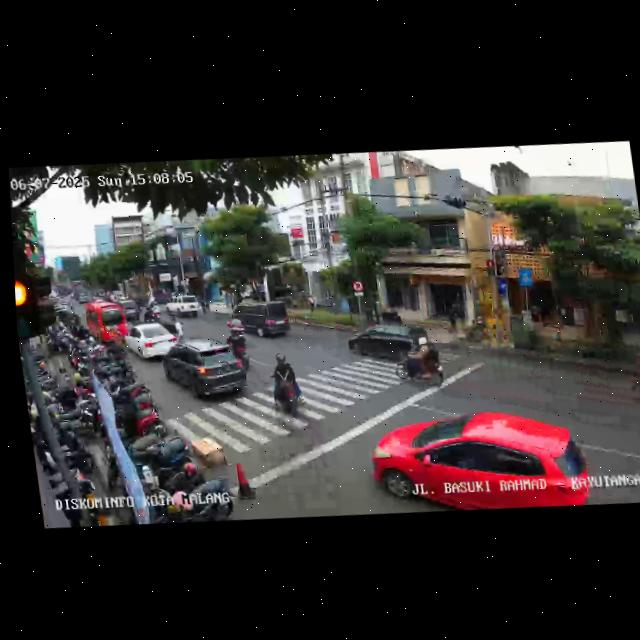car: (366, 399, 596, 523), (343, 319, 440, 394), (158, 335, 252, 406), (226, 295, 293, 344), (122, 319, 180, 364), (82, 297, 129, 346), (164, 291, 202, 320)
motorcycle: (392, 326, 447, 392), (266, 353, 308, 425), (225, 312, 252, 366), (625, 342, 640, 410)
